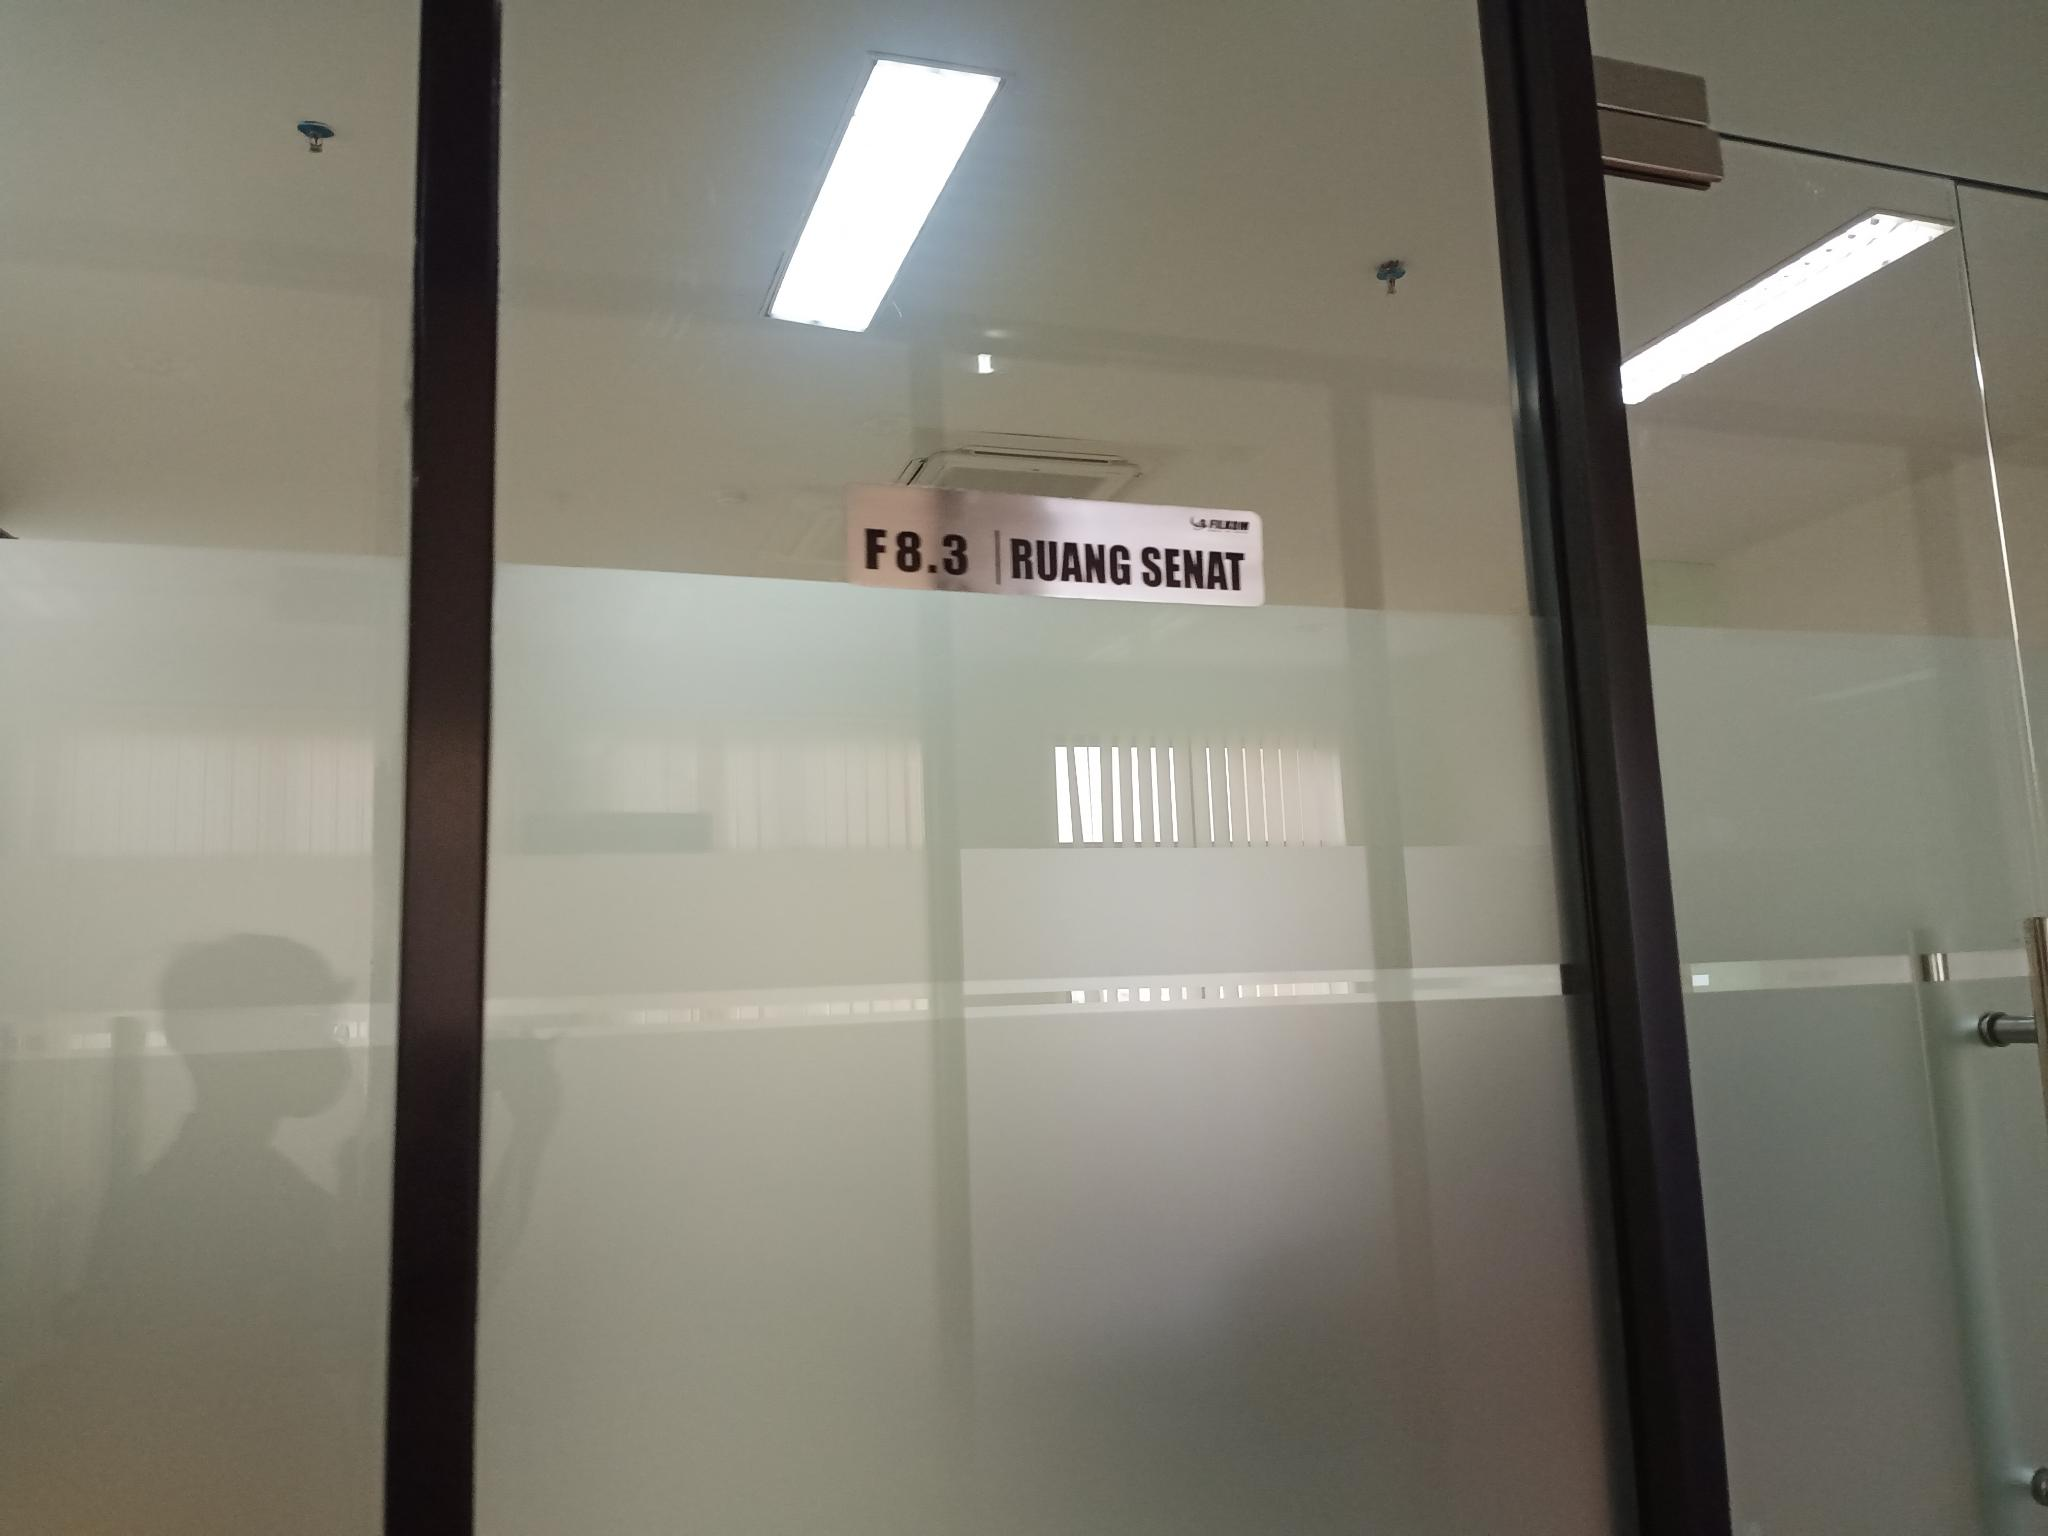plate: (847, 481, 1268, 613)
